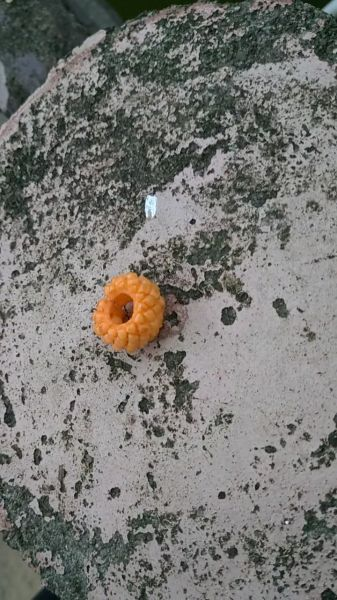eggs: (87, 267, 168, 356)
